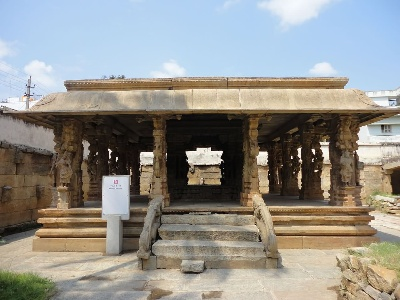mandapa: (17, 60, 388, 229)
